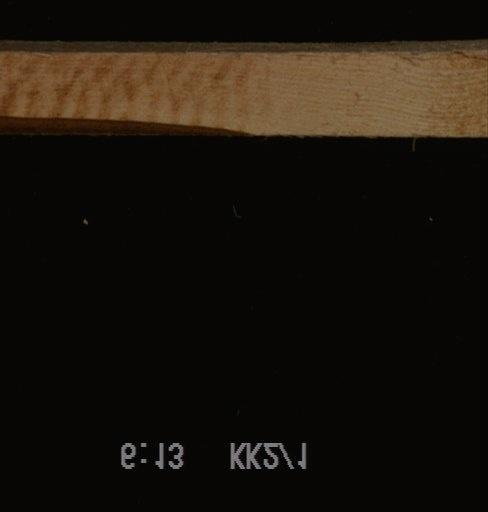wave: (0, 37, 487, 54), (0, 114, 260, 135)
